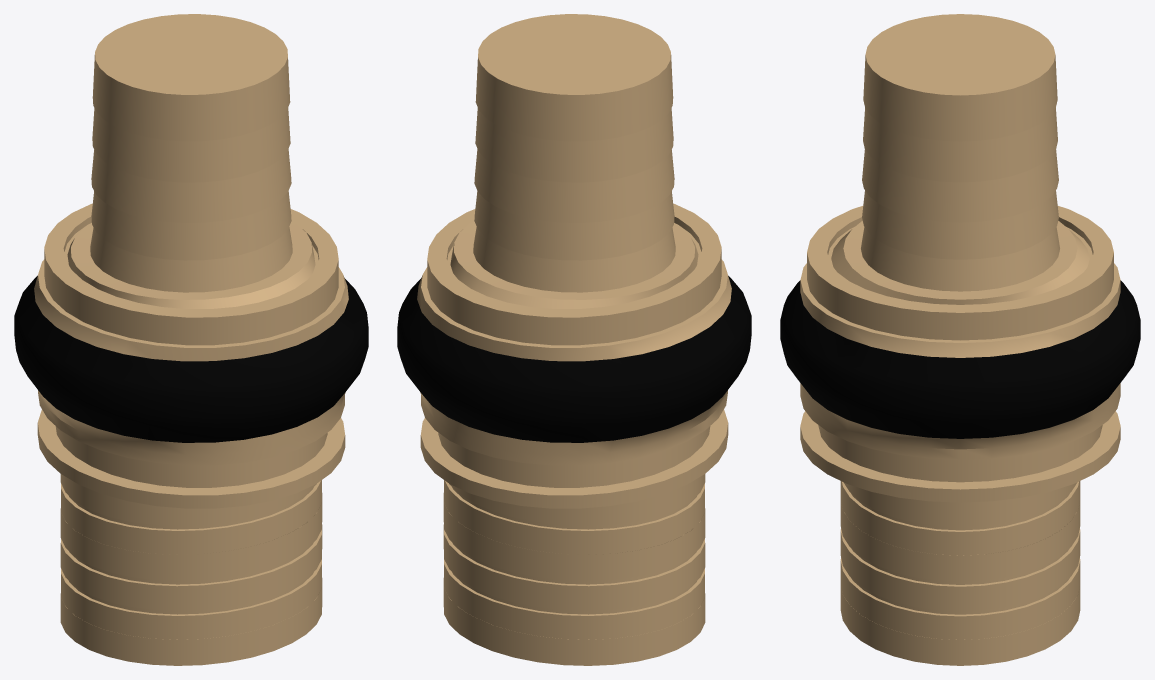
File: Coupling Hydrant.fbx
3 views of the same model, side by side, from view 1: azimuth 30°, elevation 25°; view 2: azimuth 150°, elevation 25°; view 3: azimuth 270°, elevation 25° (orthographic).
Visible parts, largest first — view 1: Circle; view 2: Circle; view 3: Circle.
Part boxes in pixels (x1,y1,x2,y2): Circle: (14,14,368,665); Circle: (397,14,751,665); Circle: (780,14,1140,665).
Bounding box in the file's own units: 29.91 × 52.4 × 30.83.
